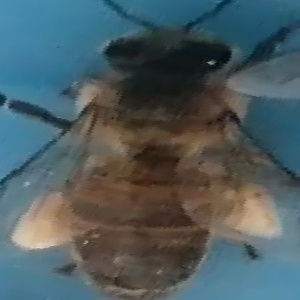bee: (38, 2, 290, 300)
